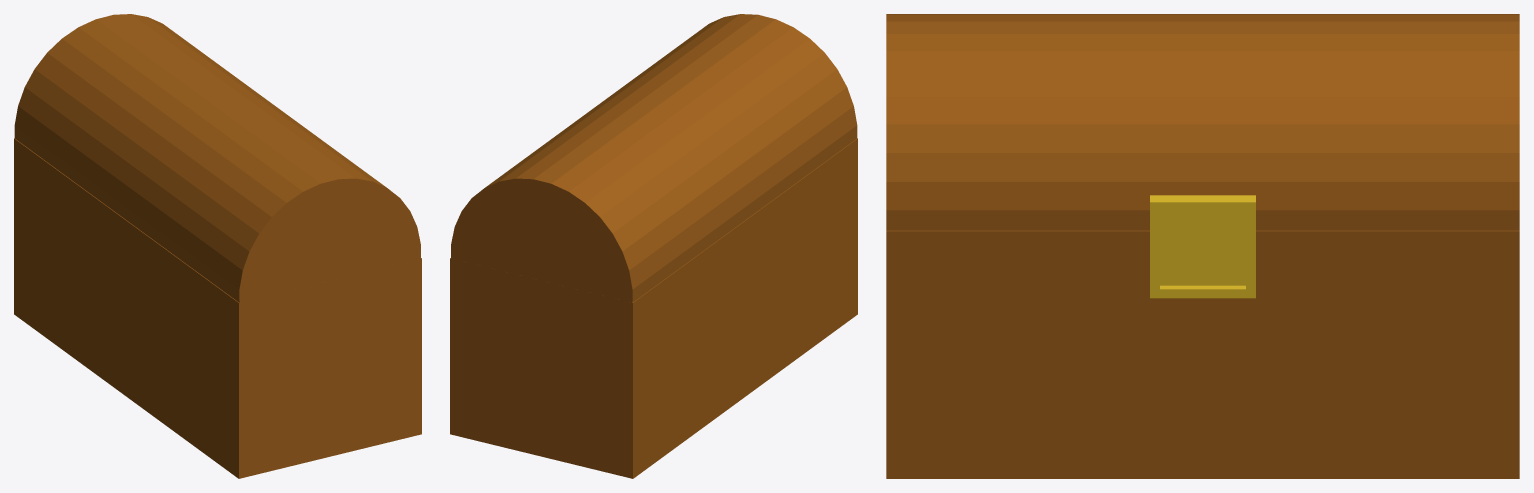
File: closedChest.fbx
The picture shows the model from 3 angles, left to right: view 1: azimuth 30°, elevation 25°; view 2: azimuth 150°, elevation 25°; view 3: azimuth 270°, elevation 25°; orthographic projection. The views are drawn at different scales.
Parts seen in each view (by area): view 1: baseChest, couvercleChest; view 2: baseChest, couvercleChest; view 3: baseChest, couvercleChest, clef.
Boxes of the visible parts, <box> form: baseChest: <box>14,138,421,478</box>; couvercleChest: <box>14,14,420,302</box>; baseChest: <box>450,138,857,478</box>; couvercleChest: <box>451,14,857,302</box>; baseChest: <box>886,230,1519,478</box>; couvercleChest: <box>886,14,1519,230</box>; clef: <box>1150,195,1255,298</box>.
Bounding box in the file's own units: 586 × 1197 × 809.
